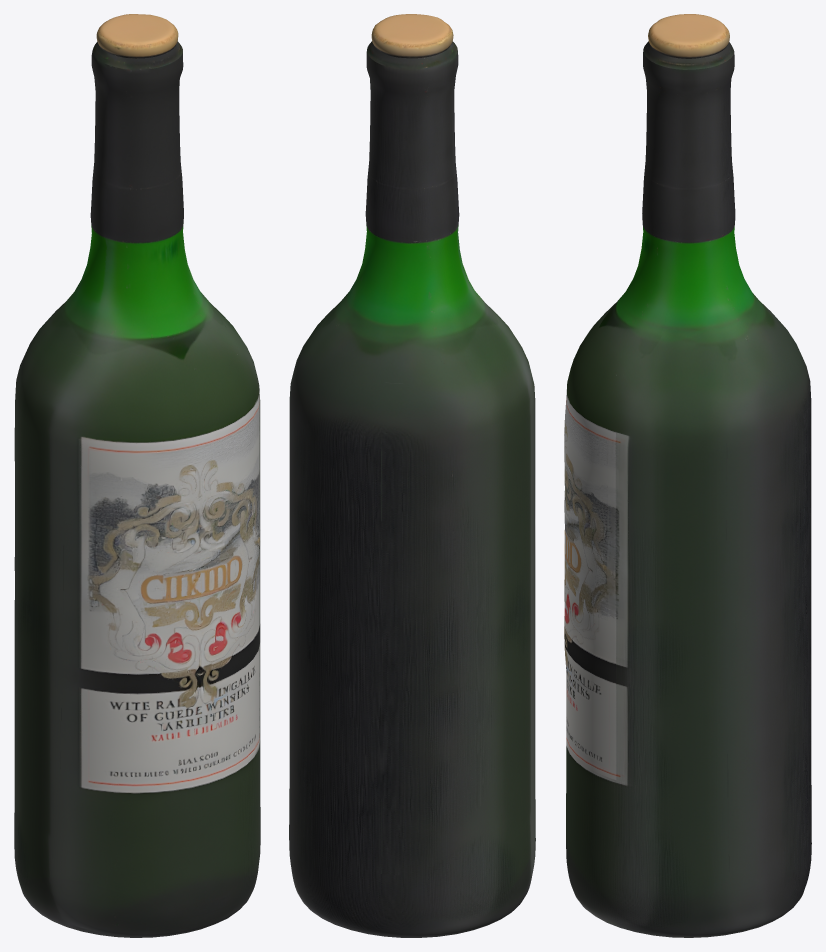
The model's file is wine.glb.
The picture shows the model from 3 angles, left to right: view 1: azimuth 30°, elevation 25°; view 2: azimuth 150°, elevation 25°; view 3: azimuth 270°, elevation 25°; orthographic projection.
Parts seen in each view (by area): view 1: Mesh0; view 2: Mesh0; view 3: Mesh0.
Part boxes in pixels (<box>): Mesh0: <box>14,14,260,937</box>; Mesh0: <box>289,14,535,937</box>; Mesh0: <box>564,14,811,937</box>.
Size of the model in its own units: 0.5184 by 2.01 by 0.5207.
1 material, 1 textured.
